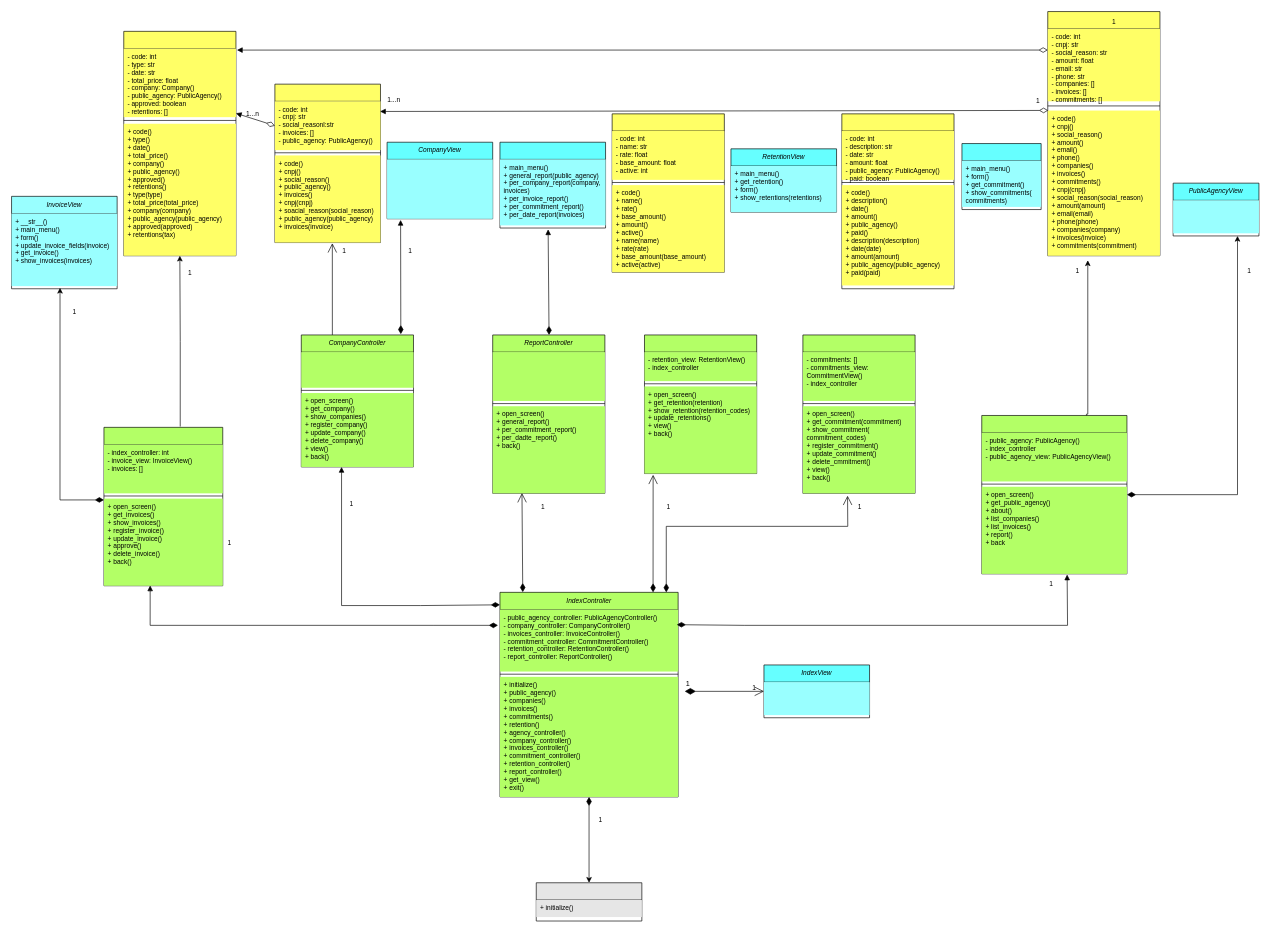
The diagram is 1271 pixels wide and 933 high, and some of its shapes have lost their labels. Each missing label, with the box of its shape:
+ __str__() + main_menu() + form() + get_company() + show_companies(companies): (387, 159, 492, 218)
+ main_menu() + show_message(msg): (764, 682, 869, 715)
+ main_menu() + show_publc_agency( public_agency): (1173, 200, 1259, 233)
- companies: [] - index_controller: int - company_view: CompanyView(): (301, 352, 413, 387)
- index_controller - report_view: ReportView(): (492, 352, 605, 401)
Commitment: (841, 113, 954, 289)
CommitmentController: (802, 334, 915, 493)
CommitmentView: (961, 143, 1041, 210)
Company: (274, 83, 380, 243)
Invoice: (123, 31, 236, 256)
InvoiceController: (103, 427, 223, 586)
Main: (536, 882, 642, 921)
PublicAgency: (1047, 11, 1160, 256)
PublicAgencyController: (981, 415, 1127, 574)
ReportView: (499, 142, 606, 228)
Retention: (611, 113, 724, 272)
RetentionController: (644, 334, 757, 474)
